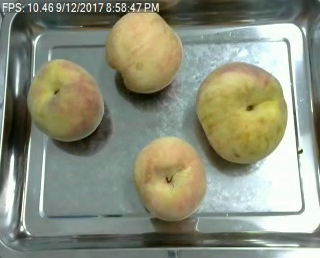Peach: (197, 62, 288, 165), (26, 56, 105, 142), (133, 134, 208, 221), (106, 8, 183, 92)
